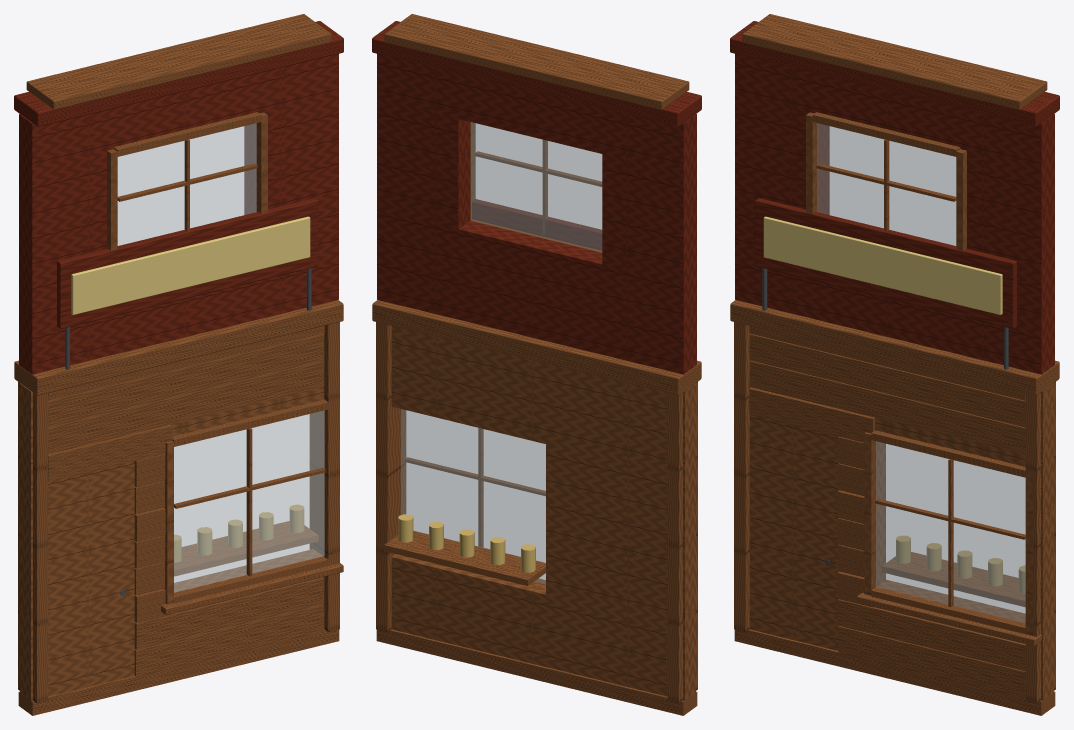
The model's file is wild-west-frontier-town-general-store-facade-bay-495f7c0b__30121.glb.
3 views of the same model, side by side, from view 1: azimuth 30°, elevation 25°; view 2: azimuth 150°, elevation 25°; view 3: azimuth 330°, elevation 25° (orthographic).
Visible parts, largest first — view 1: general-store-facade-bay; view 2: general-store-facade-bay; view 3: general-store-facade-bay.
Part boxes in pixels (x1,y1,x2,y2): general-store-facade-bay: (14,14,343,715); general-store-facade-bay: (372,14,701,715); general-store-facade-bay: (730,14,1059,715).
Size of the model in its own units: 3.2 by 6.14 by 0.5696.
Materials: 6 (2 with a texture image).
